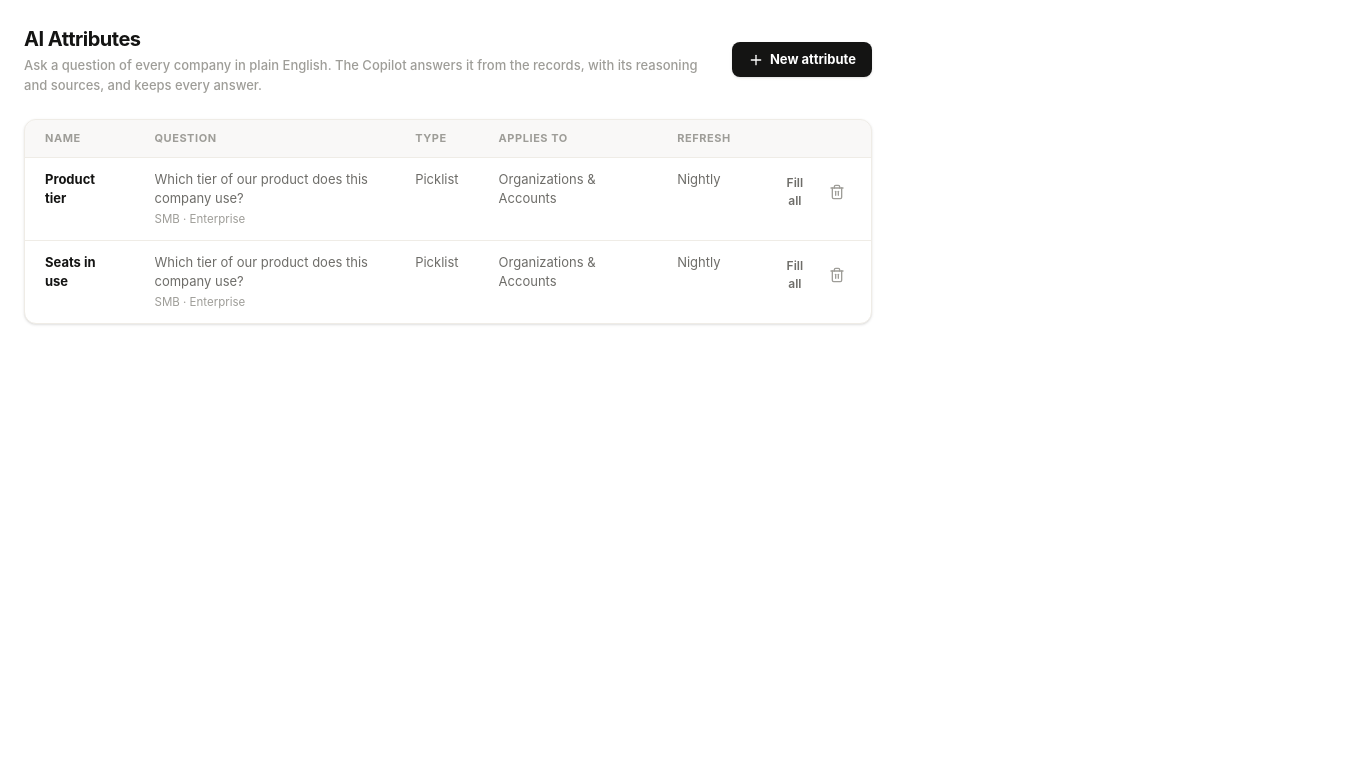
Test: AIAttributesPage actions › deletes after confirmation, and keeps the list when a delete fails
Expected: the text "Product tier" is shown, [25, 157, 134, 240]
Click the button named "Delete Product tier" at (837,192), box [823, 178, 851, 206]
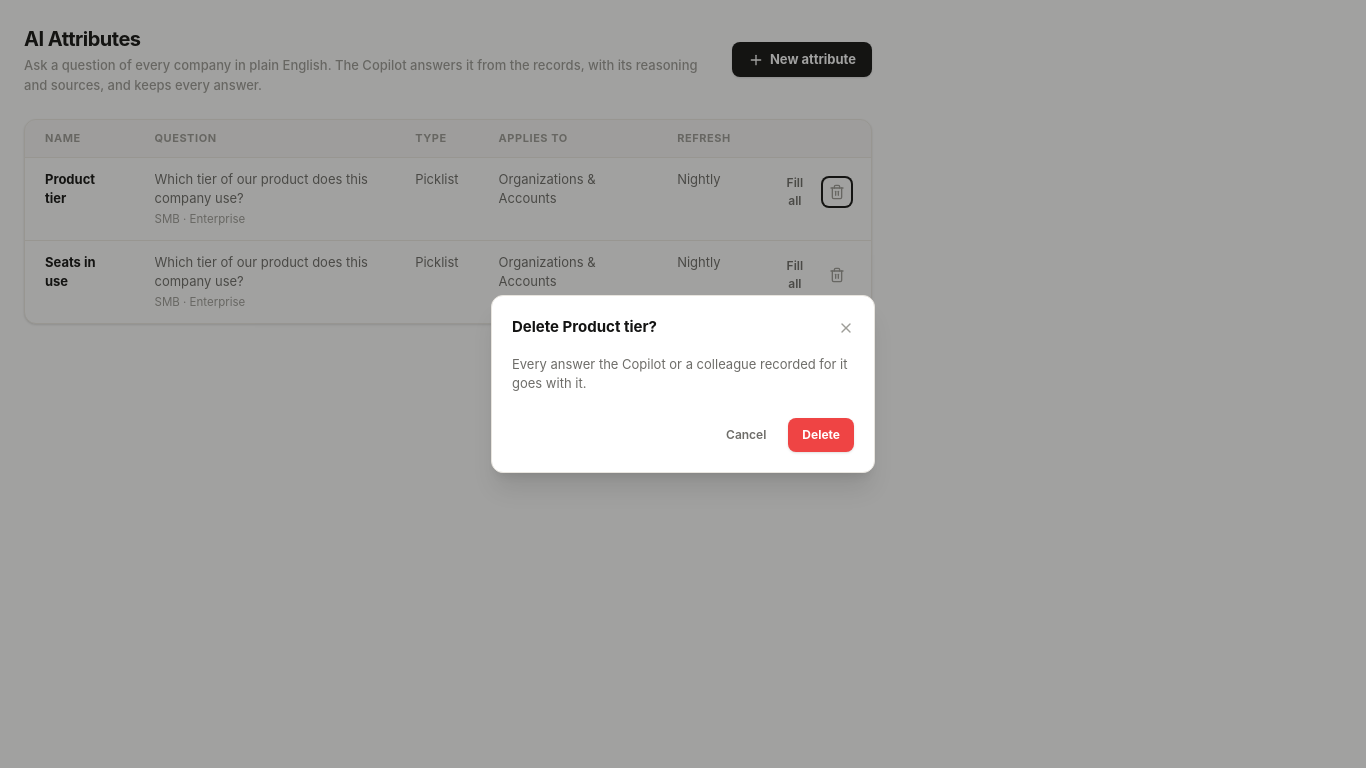
Click the button "Delete" at (821,435), box [788, 418, 854, 452]
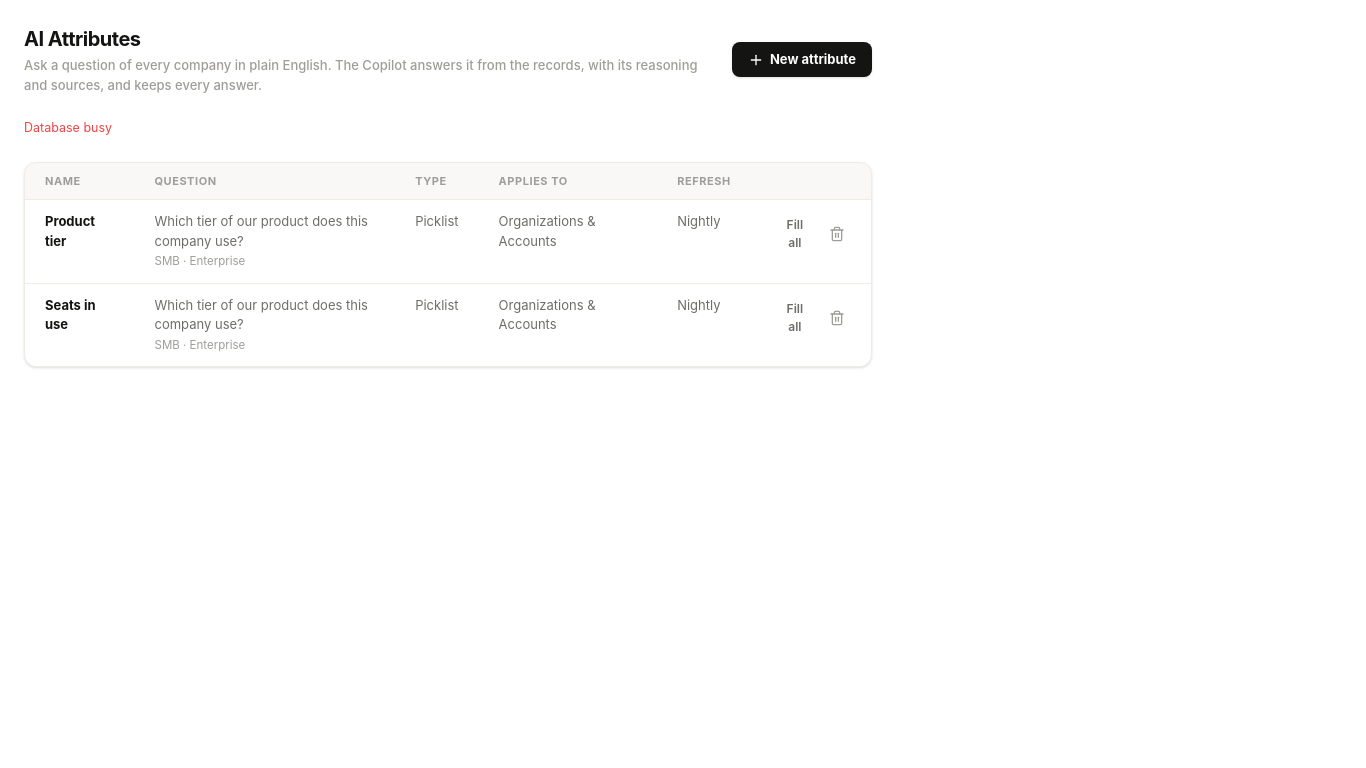
Expected: the text "Product tier" is shown, [25, 200, 134, 283]
Expected: the message reads "Database busy", [24, 120, 112, 135]
Click the button named "Delete Seats in use" at (837,318), box [823, 304, 851, 332]
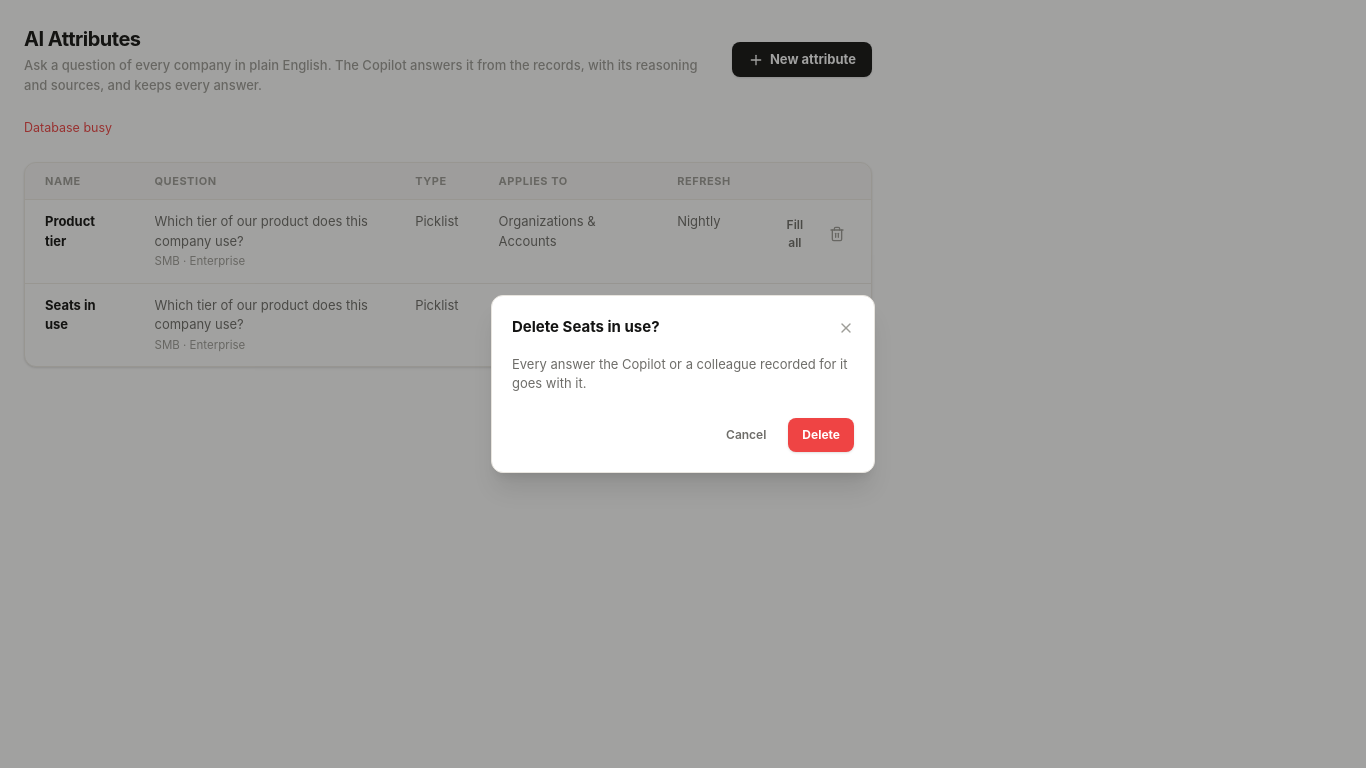
Click the button "Delete" at (821,435), box [788, 418, 854, 452]
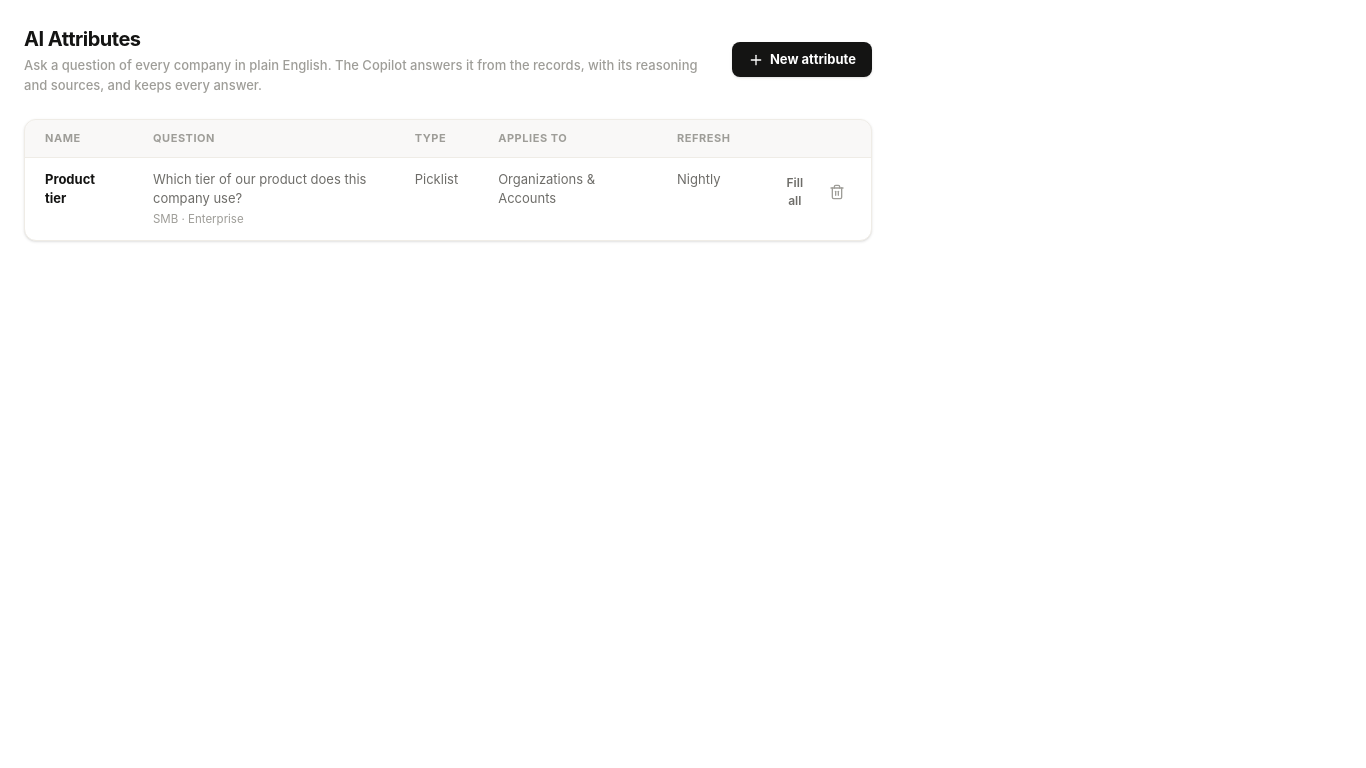
Expected: the text "Product tier" is shown, [25, 157, 133, 240]
Expected: the text "Seats in use" is gone
